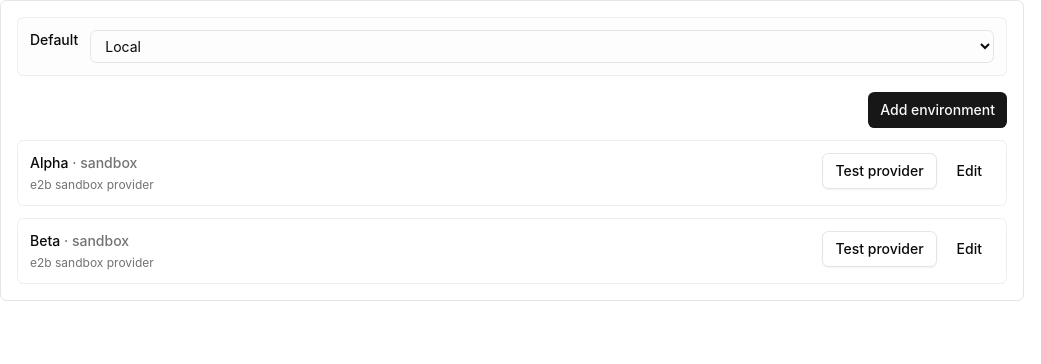
CompanyEnvironments — test provider button › keeps the second environment's testing state when an earlier probe settles
Click the button "Test provider" in the row of "Alpha".
click(880, 171)  # box [822,153,937,189]
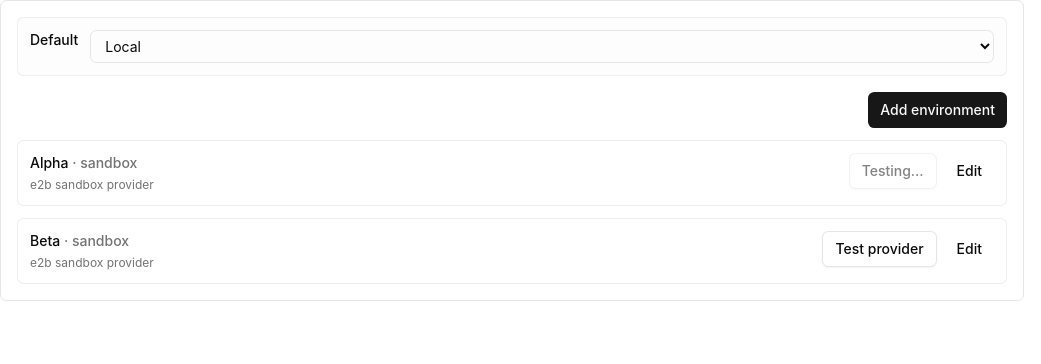
Click the button "Test provider".
click(880, 249)  # box [822,231,937,267]
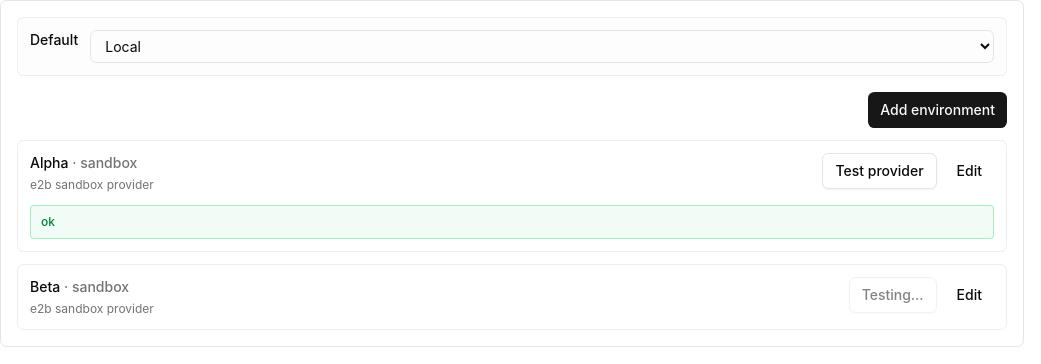
Expected: the button "Testing..." is shown, [849,277,937,313]
Expected: the button "Testing..." is disabled, [849,277,937,313]
